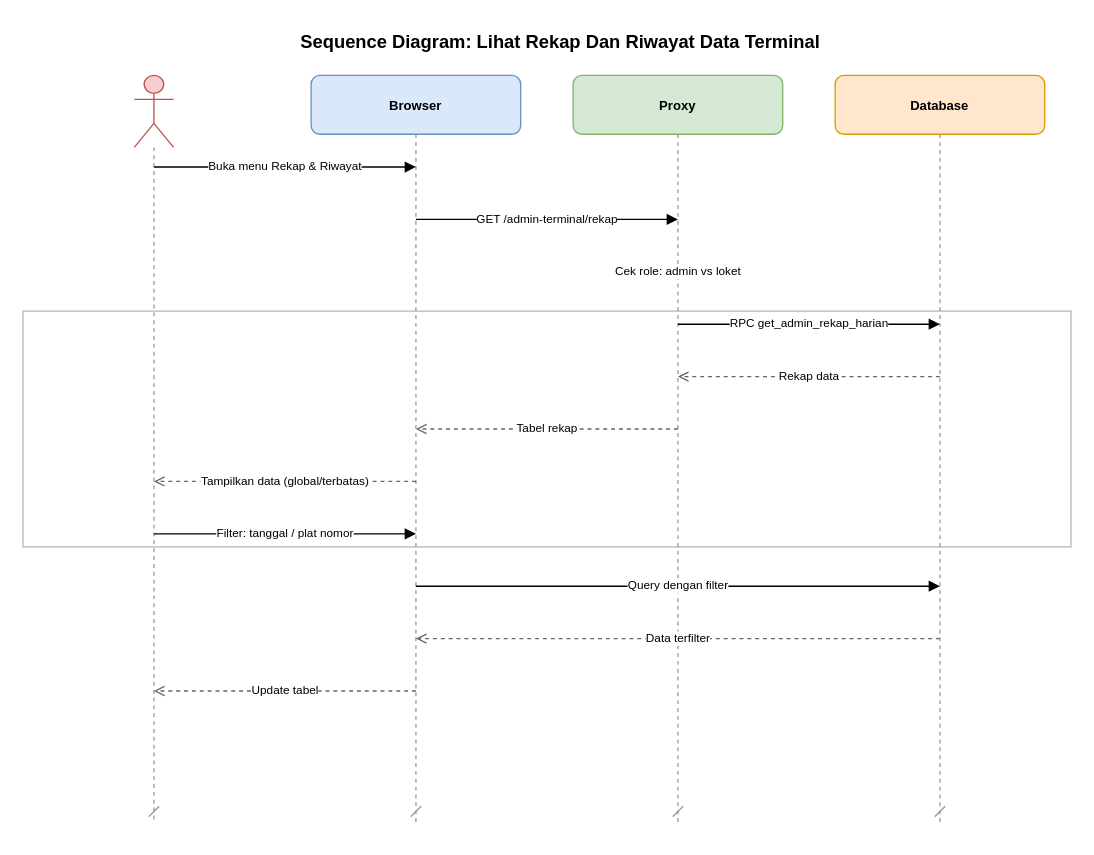
Some shapes in this 1094 by 855 pixel diagram are drawn without their labels. The box of each missing label's shape, as (x1, y1, x2, y2) in pixels:
Admin/Loket: (133, 74, 174, 147)
alt: Admin=global, Loket=data sesi sendiri: (22, 310, 1071, 547)
